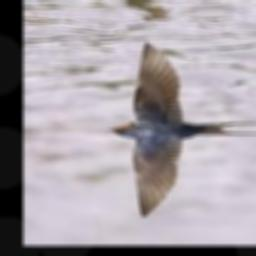Swallow: (109, 41, 256, 217)
